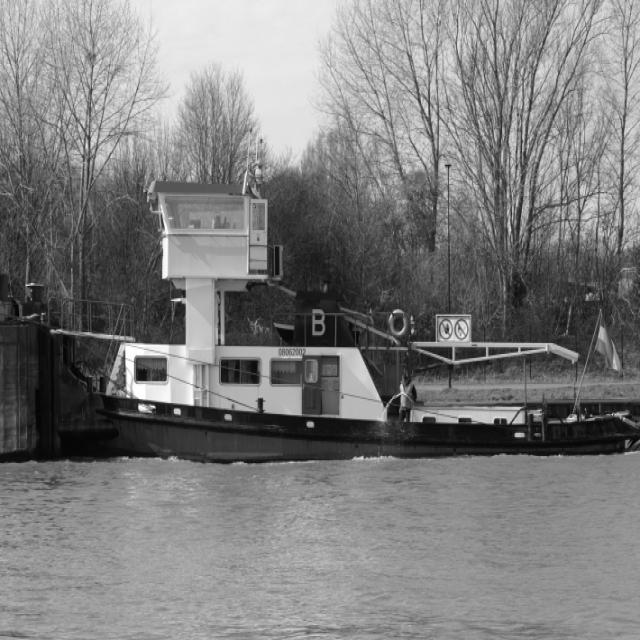tugboat: (44, 125, 640, 479)
